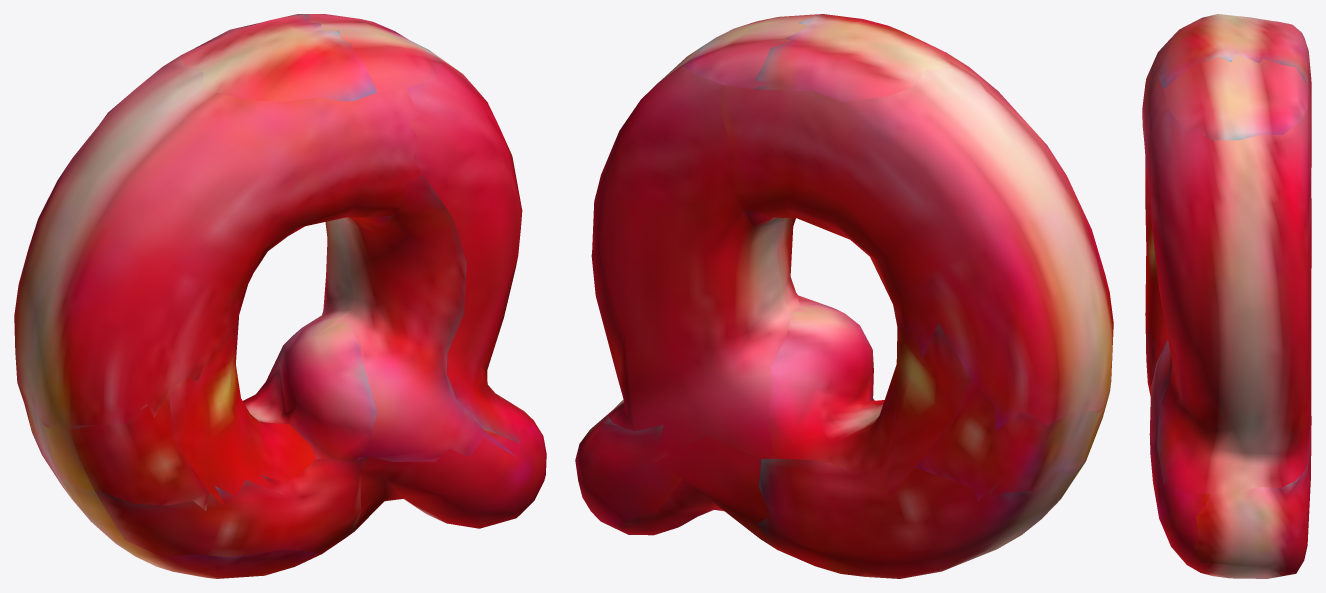
3 renders of one model, left to right at view 1: azimuth 30°, elevation 25°; view 2: azimuth 150°, elevation 25°; view 3: azimuth 270°, elevation 25°, orthographic. The views are drawn at different scales.
Visible parts, largest first — view 1: Candy-Letter-Q; view 2: Candy-Letter-Q; view 3: Candy-Letter-Q.
Boxes of the visible parts, x1,y1,x2,y2 form: Candy-Letter-Q: (14, 14, 546, 578); Candy-Letter-Q: (575, 14, 1113, 578); Candy-Letter-Q: (1142, 14, 1311, 578).
Bounding box in the file's own units: 0.3298 × 0.3365 × 0.1124.
1 material, 1 textured.
